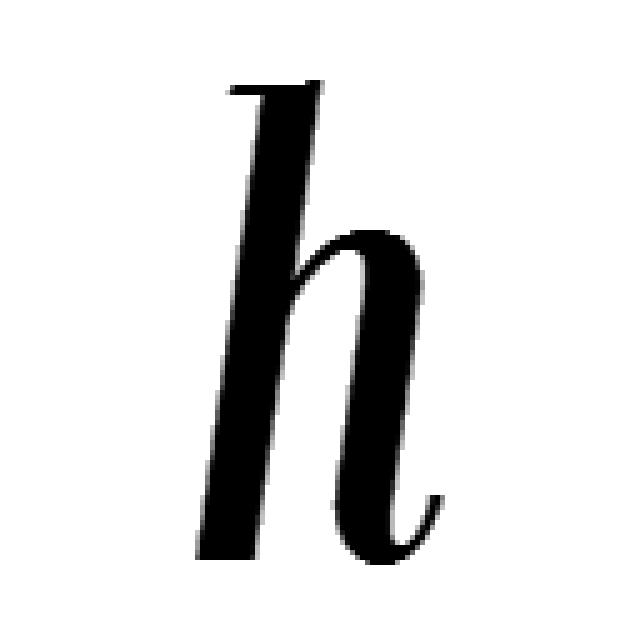H: (195, 80, 440, 570)
